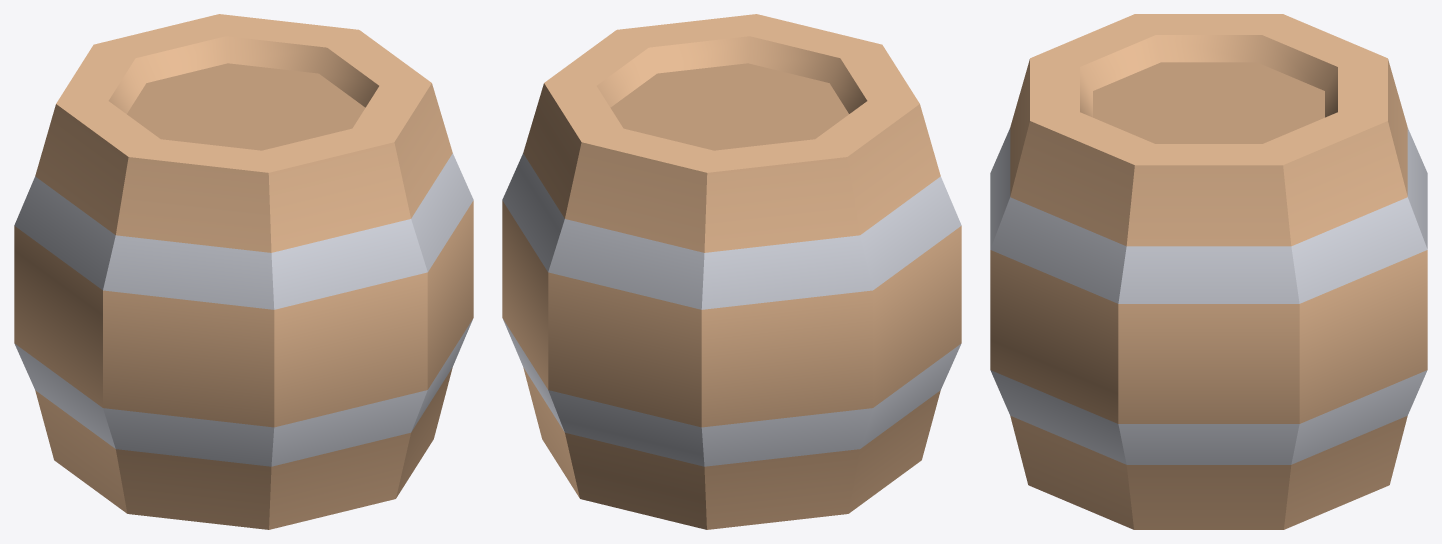
3 renders of one model, left to right at view 1: azimuth 30°, elevation 25°; view 2: azimuth 150°, elevation 25°; view 3: azimuth 270°, elevation 25°, orthographic. The views are drawn at different scales.
Parts seen in each view (by area): view 1: barrel; view 2: barrel; view 3: barrel.
Boxes of the visible parts, x1,y1,x2,y2 form: barrel: [14, 14, 473, 529]; barrel: [502, 14, 961, 529]; barrel: [990, 14, 1427, 529].
Bounding box in the file's own units: 0.4358 × 0.4002 × 0.4358.
